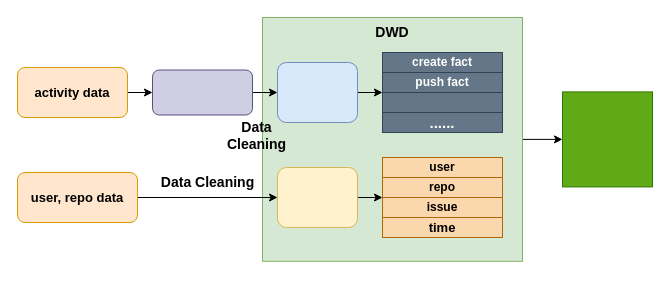
The diagram is 670 pixels wide and 294 high, and some of its shapes have lost their labels. The centre of each missing label's shape, as x and y in pixels:
"Dimension Table" belongs at pixel 317 197.
"DWS aggregated data" belongs at pixel 607 139.
"fact table" belongs at pixel 317 92.
"issue fact" belongs at pixel 442 102.
"ODS tables" belongs at pixel 202 92.
